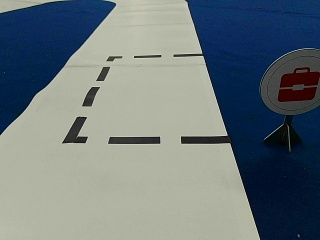company: (260, 49, 319, 115)
